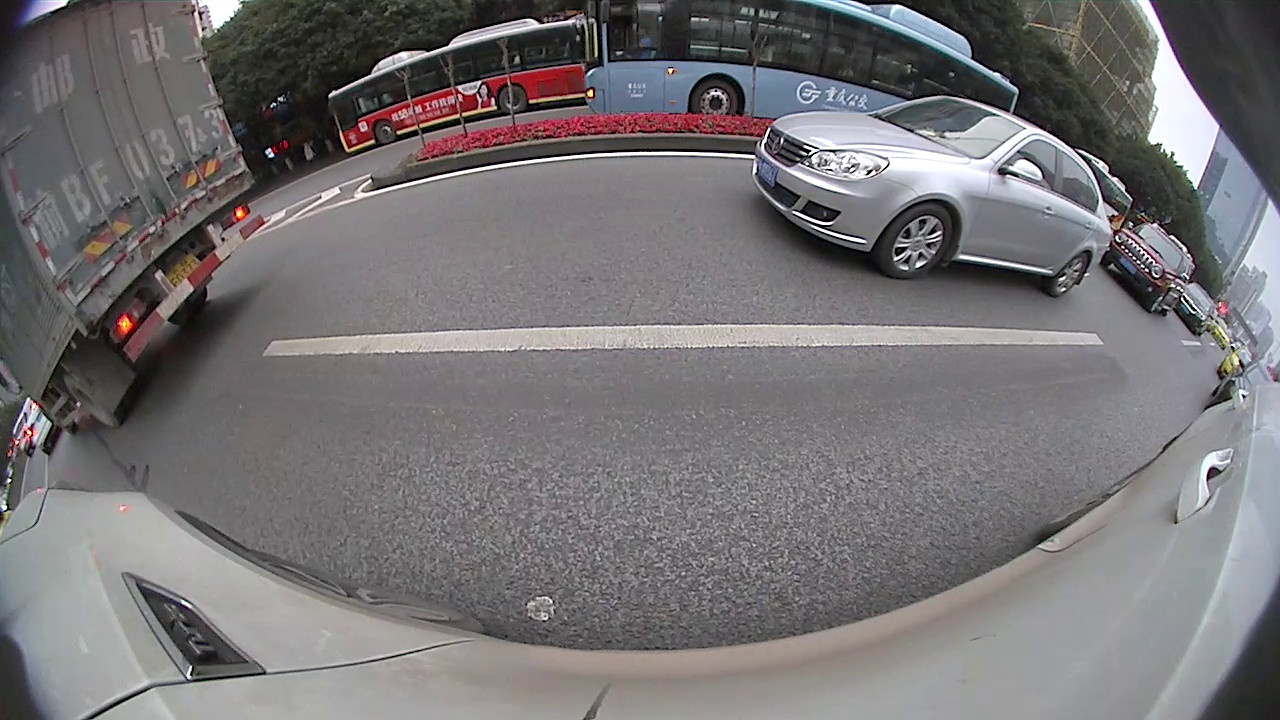bus: (585, 1, 1021, 122), (327, 16, 591, 156), (1074, 150, 1136, 240)
car: (753, 93, 1114, 302), (1099, 221, 1194, 320), (1173, 280, 1218, 333)
front: (872, 201, 955, 281), (690, 75, 740, 119), (374, 121, 395, 144)
rear: (1038, 251, 1090, 299), (499, 86, 527, 113)
truck: (3, 3, 266, 438)
